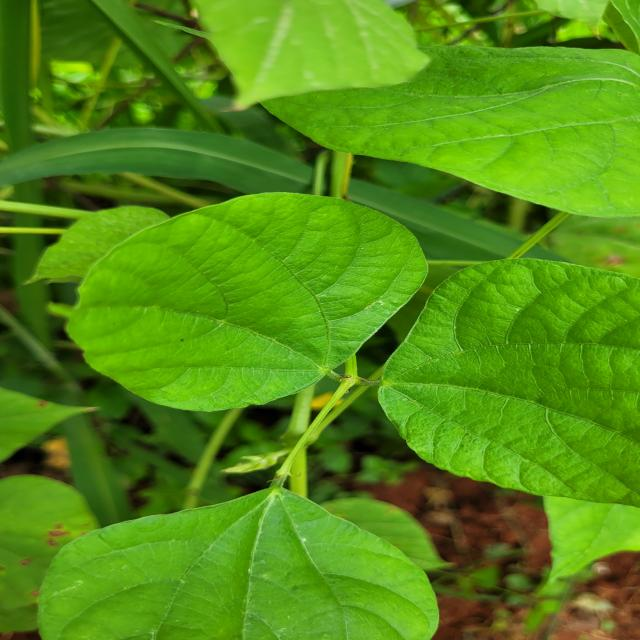Dolicos bean_healthy: (63, 188, 436, 414), (245, 28, 640, 219), (26, 475, 443, 640), (377, 260, 640, 510)
